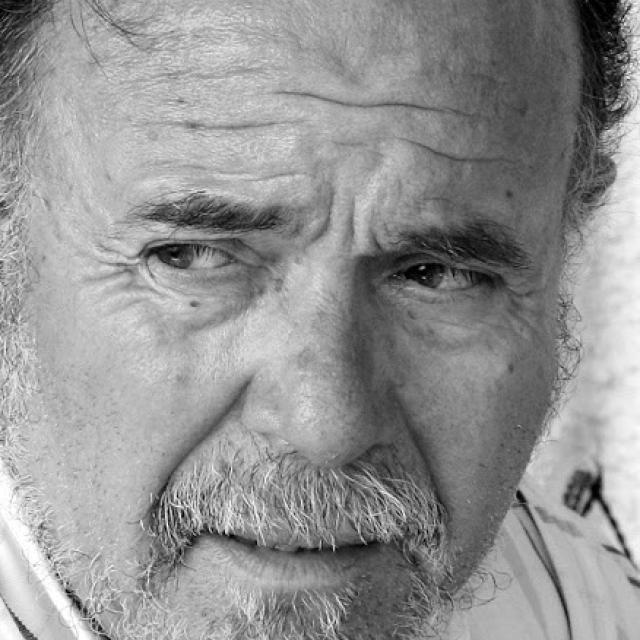Depress: (1, 5, 580, 639)
